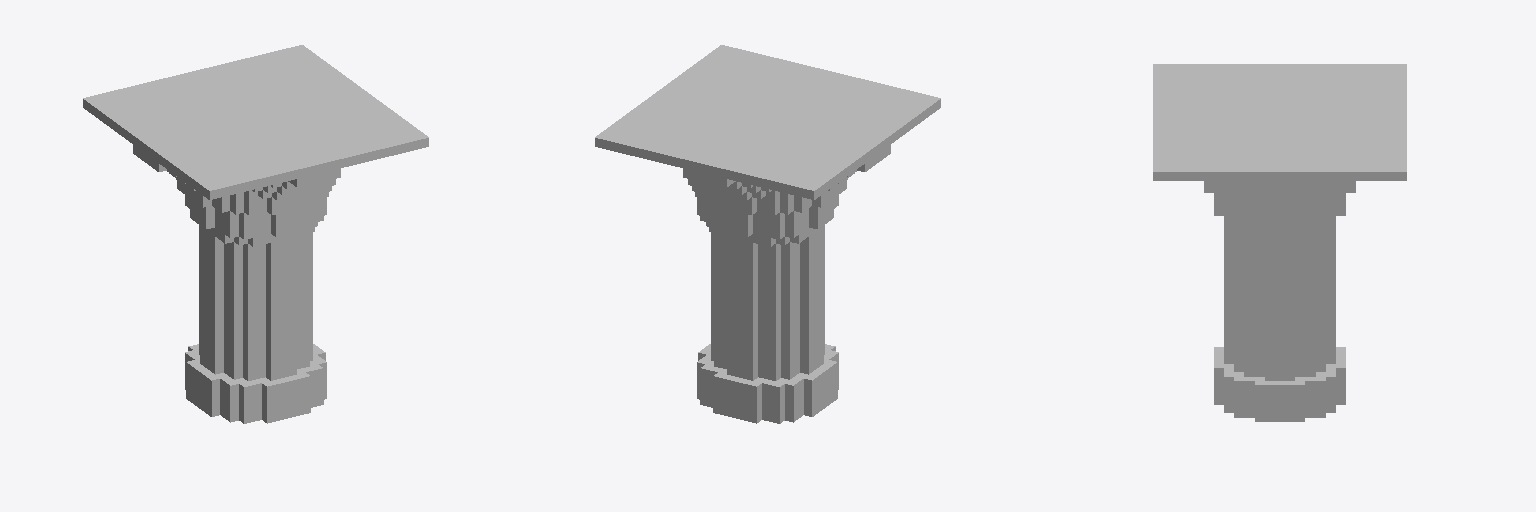
The model's file is Bridge Piece.obj.
3 views of the same model, side by side, from view 1: azimuth 30°, elevation 25°; view 2: azimuth 150°, elevation 25°; view 3: azimuth 270°, elevation 25° (orthographic).
Visible parts, largest first — view 1: object 1; view 2: object 1; view 3: object 1.
Boxes of the visible parts, x1,y1,x2,y2 form: object 1: [83, 45, 428, 423]; object 1: [595, 45, 940, 423]; object 1: [1153, 64, 1406, 421].
Bounding box in the file's own units: 2.5 × 3 × 2.5.